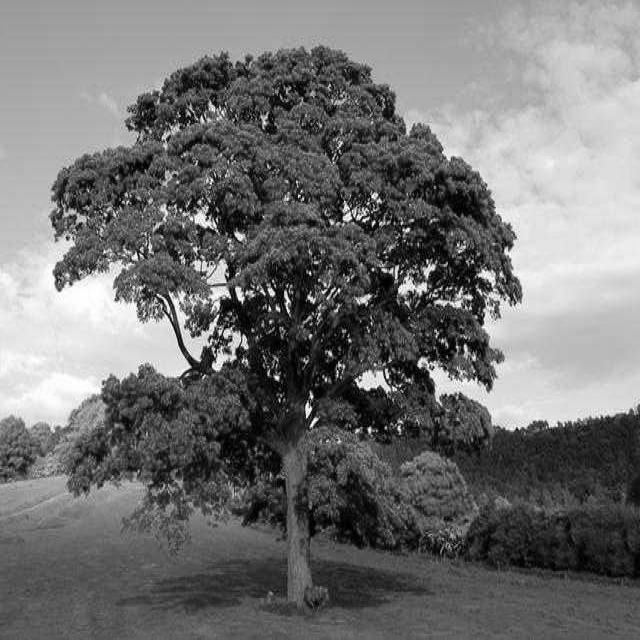Tree: (86, 47, 522, 604)
